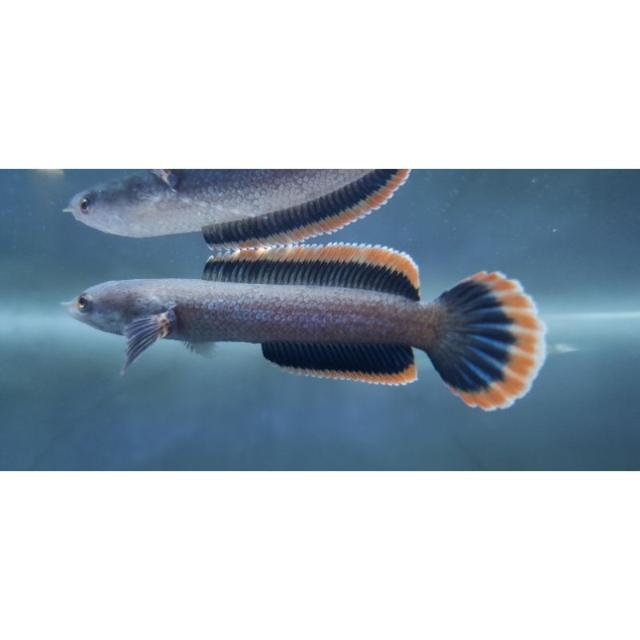Mulut: (54, 282, 114, 336)
Sirip Anal: (256, 338, 424, 394)
Sirip Dada: (116, 310, 182, 380), (178, 331, 230, 364)
Sirip Ekor: (427, 266, 548, 416)
Sirip Punggung: (200, 244, 428, 304)
